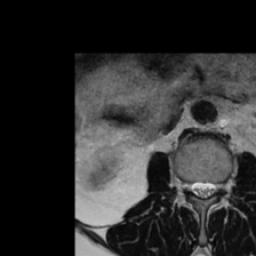CCS_stenosis: (199, 172, 207, 206)
LFS_normal: (216, 173, 224, 199)
LLS_normal: (207, 172, 216, 200)
RFS_normal: (183, 170, 191, 199)
RLS_normal: (191, 173, 199, 201)
